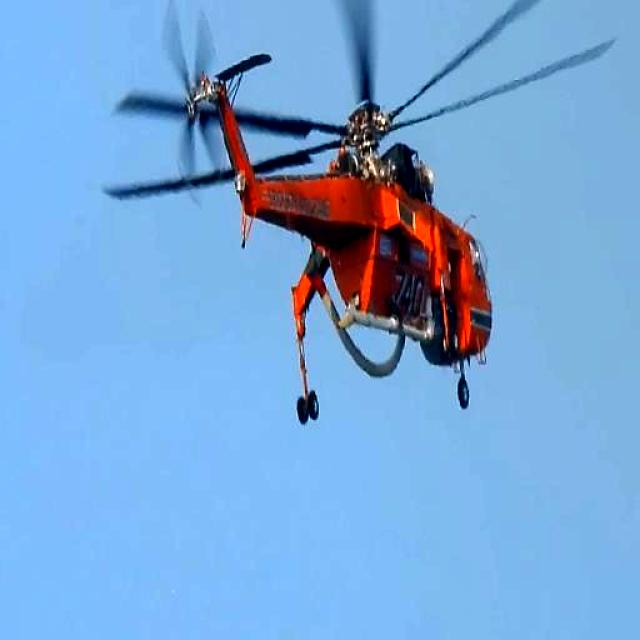drone: (52, 0, 614, 434)
